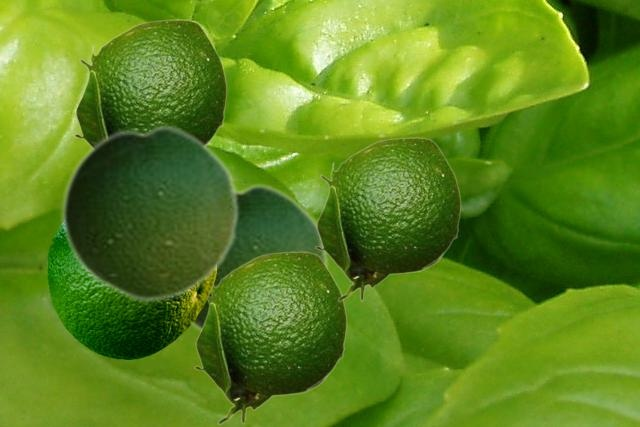dalandan: (60, 122, 239, 303), (193, 251, 346, 424), (314, 137, 460, 301), (47, 226, 215, 358), (192, 181, 328, 334), (73, 19, 226, 145)
